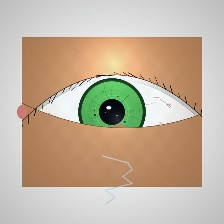foreign_body_visible: (98, 117, 140, 150)
